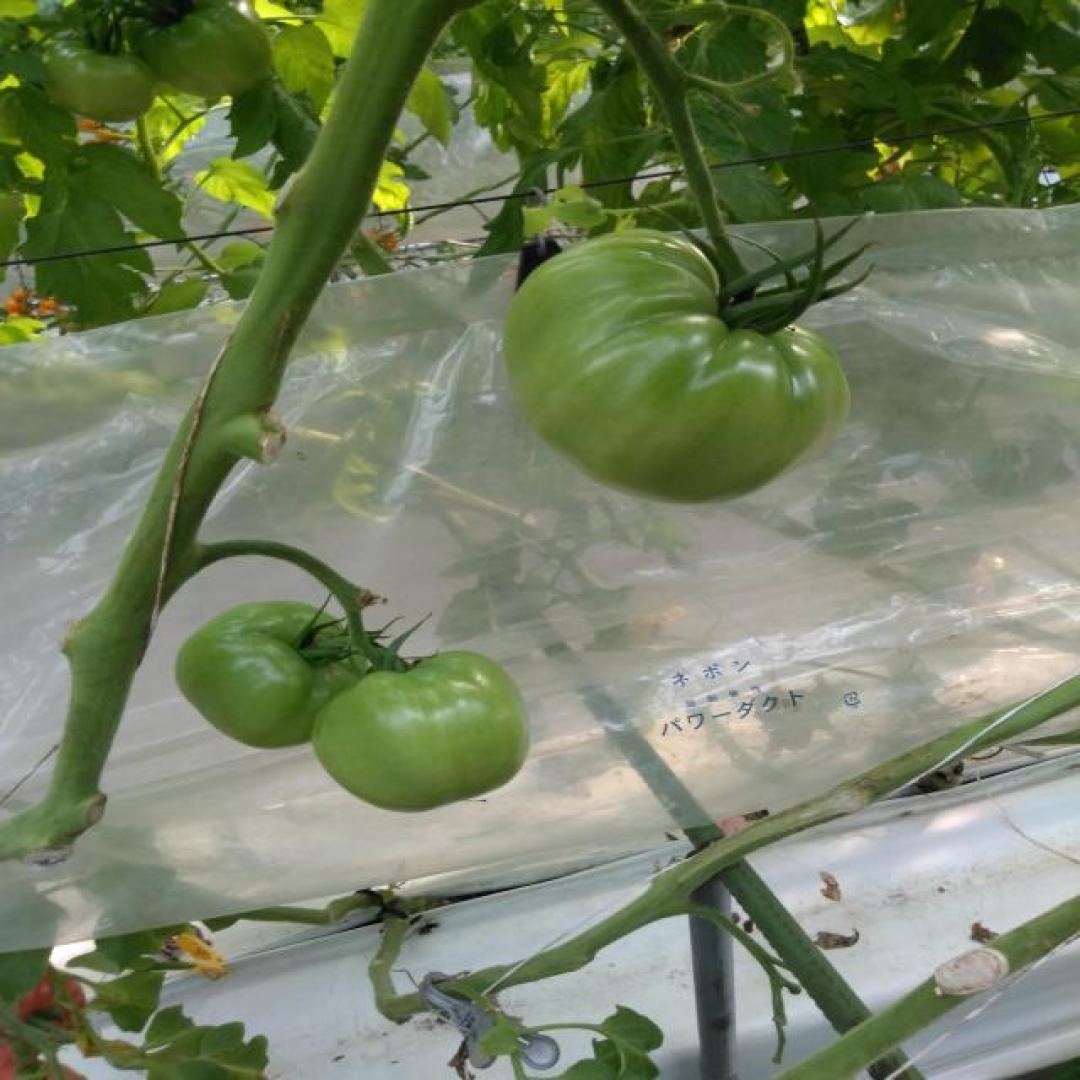mentah: (493, 226, 854, 508), (310, 648, 534, 810), (172, 601, 376, 749), (143, 5, 275, 100), (36, 36, 158, 124)
